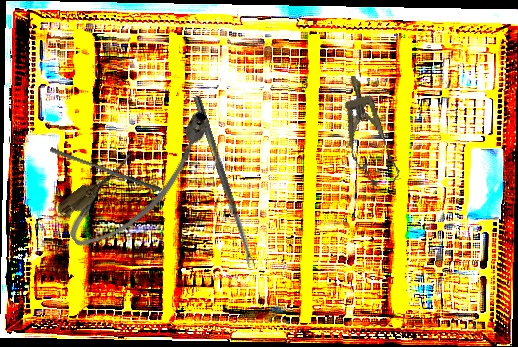Cannula: (50, 101, 232, 259)
Pusher: (48, 146, 164, 193)
Speculum: (332, 70, 403, 190)
Surgical Spoon: (192, 95, 256, 269)
